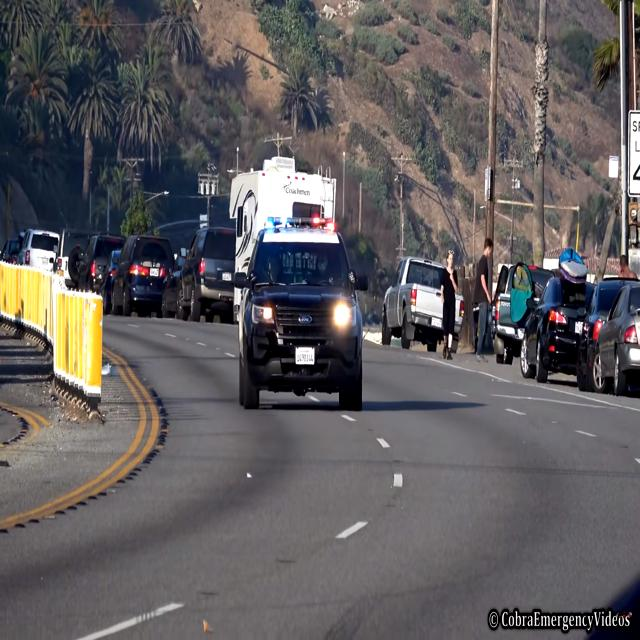emergency-vehicles: (222, 210, 383, 413)
